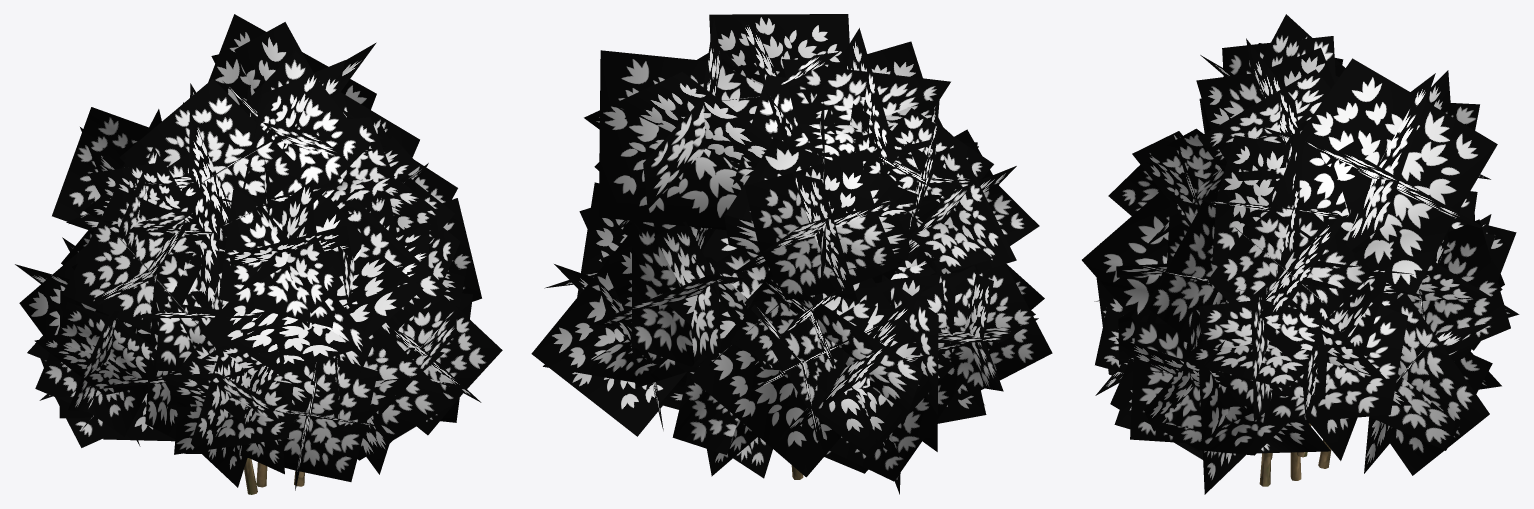
File: P_Bush3_Light.obj
3 renders of one model, left to right at view 1: azimuth 30°, elevation 25°; view 2: azimuth 150°, elevation 25°; view 3: azimuth 270°, elevation 25°, orthographic. The views are drawn at different scales.
Size of the model in its own units: 4.61 by 4.53 by 4.03.
